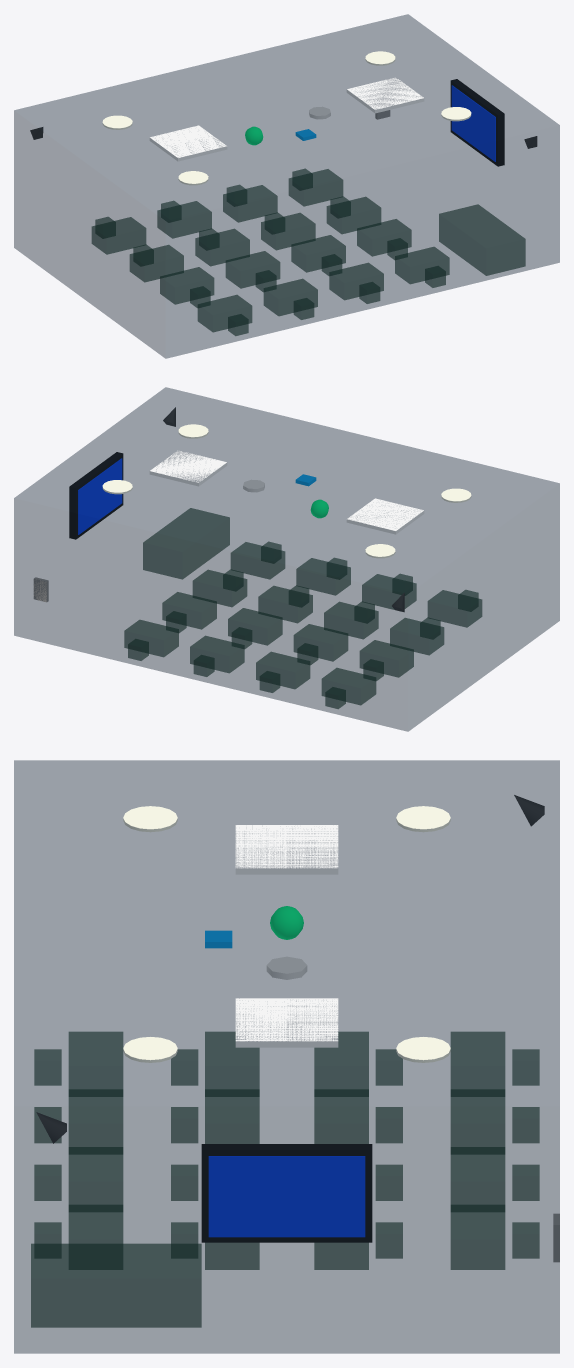
The model's file is RoomType3_Right.glb.
3 views of the same model, one above another, from view 1: azimuth 30°, elevation 25°; view 2: azimuth 150°, elevation 25°; view 3: azimuth 270°, elevation 25° (orthographic). The views are drawn at different scales.
Parts seen in each view (by area): view 1: object 1, object 36, object 35, Device:AC1, Device:AC2, object 10, object 18, object 2, object 26, object 20, object 12, object 4 (+10 smaller); view 2: object 1, object 36, object 35, Device:AC1, Device:AC2, object 24, object 8, object 32, object 22, object 14, object 6, object 30 (+10 smaller); view 3: object 1, object 36, object 35, Device:AC1, Device:AC2, object 34, object 26, object 2, object 8, object 10, object 16, object 18 (+27 smaller).
Boxes of the visible parts, x1,y1,x2,y2 form: object 1: (14,14,559,358); object 36: (439,204,525,275); object 35: (451,85,495,161); Device:AC1: (149,125,227,161); Device:AC2: (346,77,424,113); object 10: (157,201,211,238); object 18: (223,185,277,222); object 2: (92,217,145,254); object 26: (289,169,342,206); object 20: (261,213,315,250); object 12: (195,229,249,266); object 4: (130,245,183,282); object 1: (14,387,559,731); object 36: (143,508,229,579); object 35: (78,458,122,534); Device:AC1: (346,498,424,534); Device:AC2: (149,450,227,486); object 24: (296,558,350,595); object 8: (428,590,481,627); object 32: (231,542,284,579); object 22: (258,586,312,623); object 14: (324,602,378,639); object 6: (390,618,443,655); object 30: (193,570,246,606); object 1: (14,760,559,1353); object 36: (31,1244,201,1327); object 35: (208,1156,365,1237); Device:AC1: (235,825,338,874); Device:AC2: (235,998,338,1047); object 34: (201,1144,372,1242); object 26: (451,1205,504,1269); object 2: (451,1032,504,1089); object 8: (69,1032,122,1089); object 10: (451,1089,504,1146); object 16: (69,1089,122,1146); object 18: (451,1147,504,1204).
Size of the model in its own units: 12 by 4.01 by 8.
